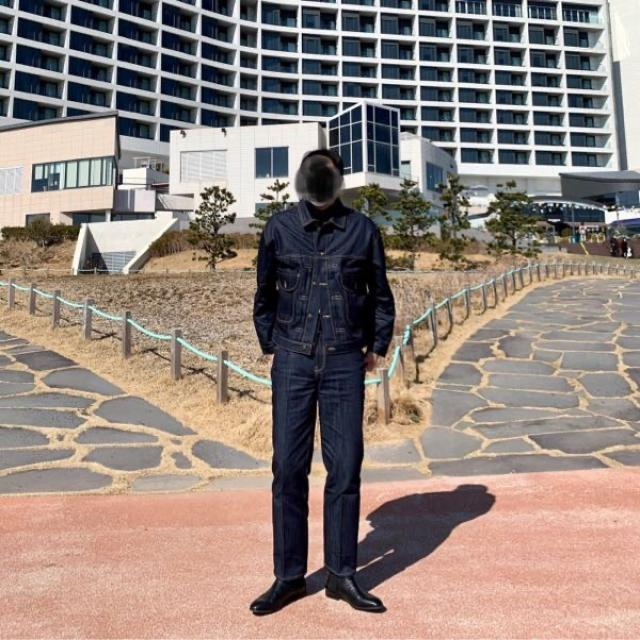denimpants: (274, 352, 362, 580)
jacket: (254, 202, 396, 359)
